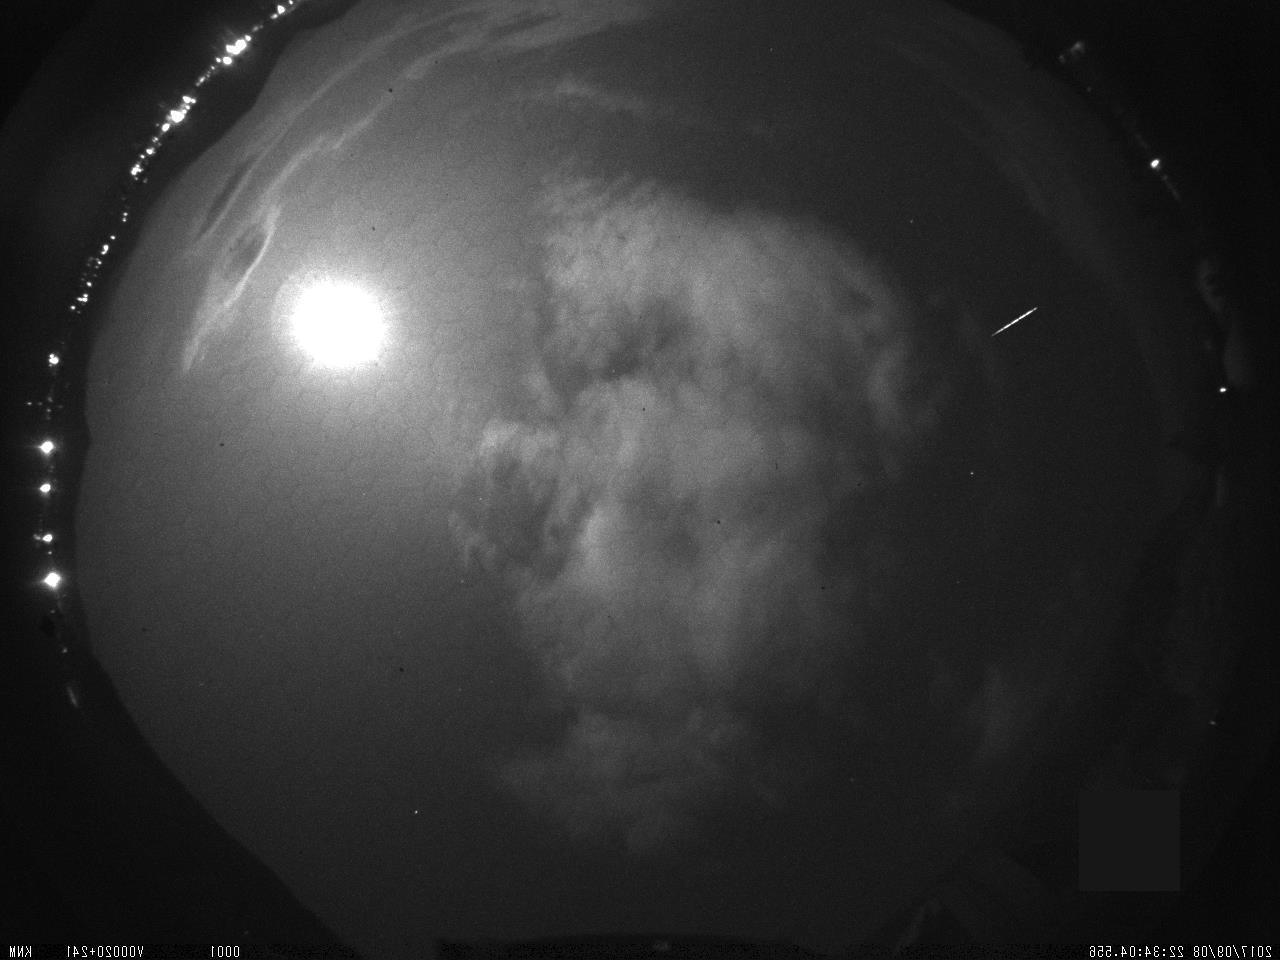meteor: (976, 297, 1052, 355)
